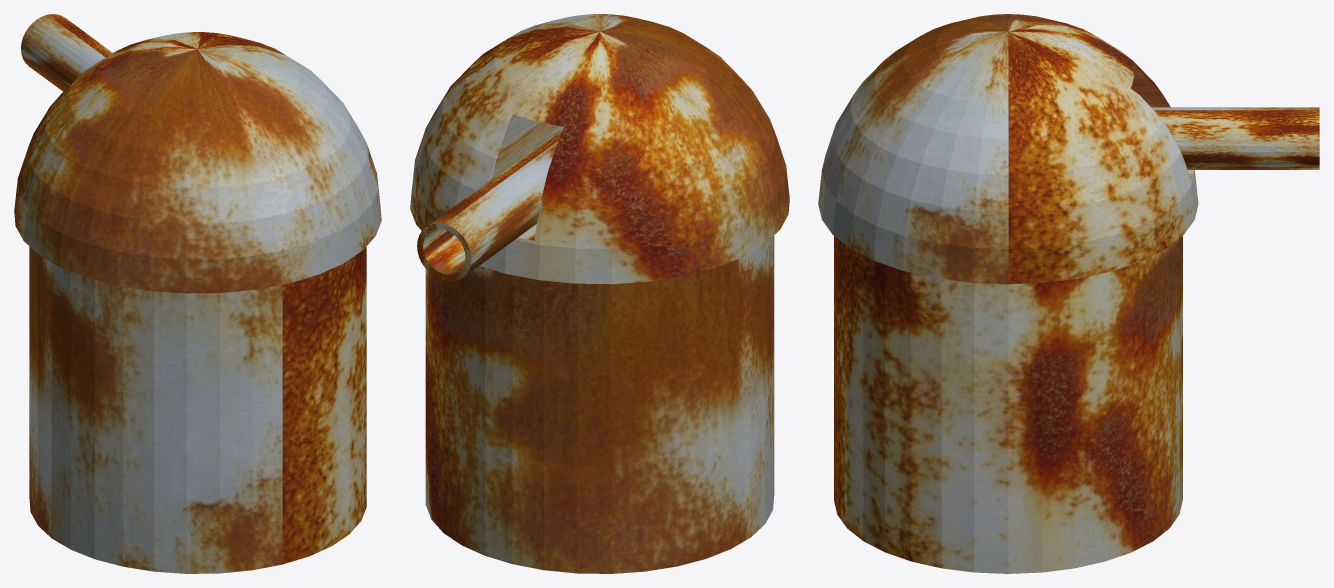
Rendered from Sentry.gltf.
The picture shows the model from 3 angles, left to right: view 1: azimuth 30°, elevation 25°; view 2: azimuth 150°, elevation 25°; view 3: azimuth 270°, elevation 25°; orthographic projection. The views are drawn at different scales.
Visible parts, largest first — view 1: Body, Head; view 2: Body, Head; view 3: Body, Head.
Part boxes in pixels (x1=…): Body: x1=29, y1=246, x2=366, y2=573; Head: x1=14, y1=14, x2=381, y2=293; Body: x1=425, y1=235, x2=774, y2=573; Head: x1=410, y1=14, x2=789, y2=284; Body: x1=834, y1=236, x2=1182, y2=573; Head: x1=818, y1=14, x2=1319, y2=284.
Size of the model in its own units: 2.18 by 2.96 by 2.87.
1 material, 1 textured.
